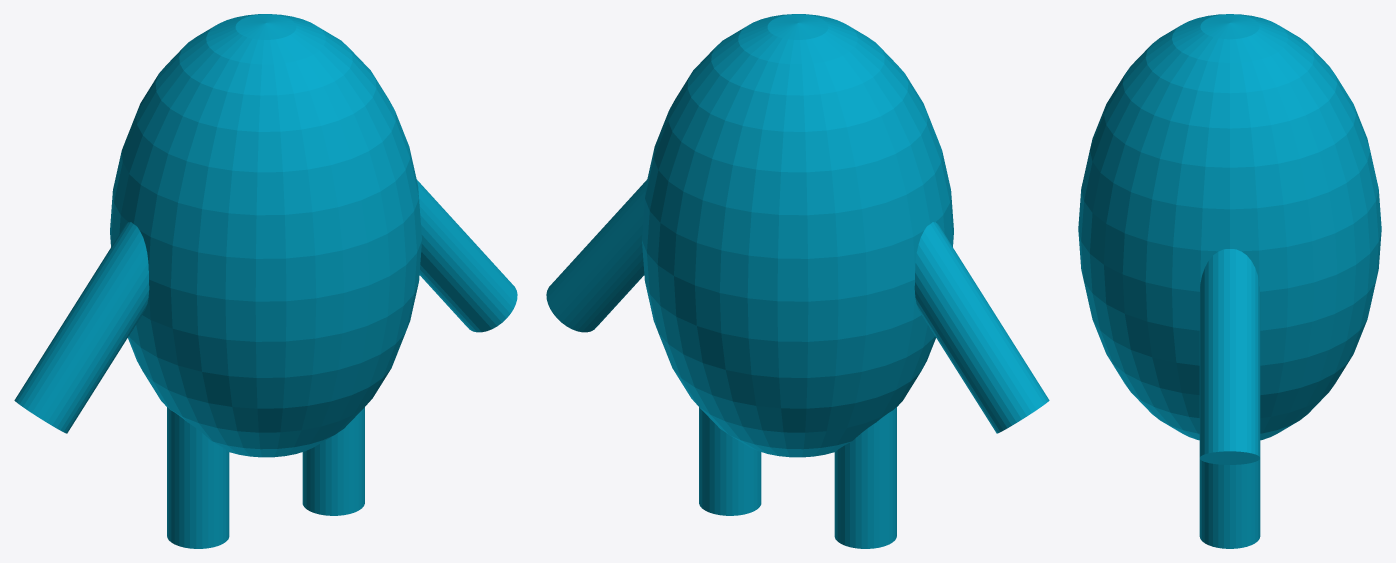
The model's file is toon_2.glb.
The picture shows the model from 3 angles, left to right: view 1: azimuth 30°, elevation 25°; view 2: azimuth 150°, elevation 25°; view 3: azimuth 270°, elevation 25°; orthographic projection. The views are drawn at different scales.
Parts seen in each view (by area): view 1: Sphere, Cylinder.003, Cylinder.002, Cylinder.001, Cylinder; view 2: Sphere, Cylinder.003, Cylinder.002, Cylinder.001, Cylinder; view 3: Sphere, Cylinder.002, Cylinder.
Part boxes in pixels (<box>): Sphere: <box>110,14,421,457</box>; Cylinder.003: <box>14,222,149,433</box>; Cylinder.002: <box>416,179,517,332</box>; Cylinder.001: <box>167,407,229,548</box>; Cylinder: <box>302,407,364,515</box>; Sphere: <box>642,14,953,457</box>; Cylinder.003: <box>914,222,1049,433</box>; Cylinder.002: <box>546,179,647,332</box>; Cylinder.001: <box>834,407,896,548</box>; Cylinder: <box>699,407,761,515</box>; Sphere: <box>1078,14,1381,440</box>; Cylinder.002: <box>1199,249,1260,464</box>; Cylinder: <box>1199,459,1260,548</box>.
Size of the model in its own units: 1.82 by 1.75 by 1.
